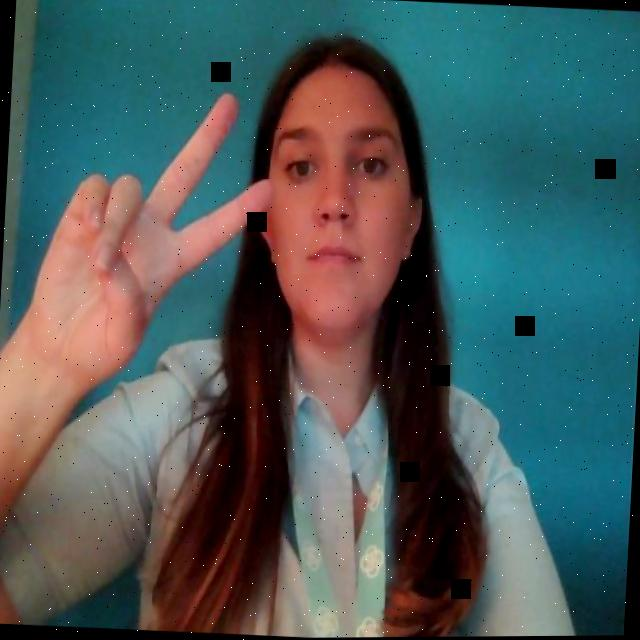Scissors: (31, 79, 279, 398)
